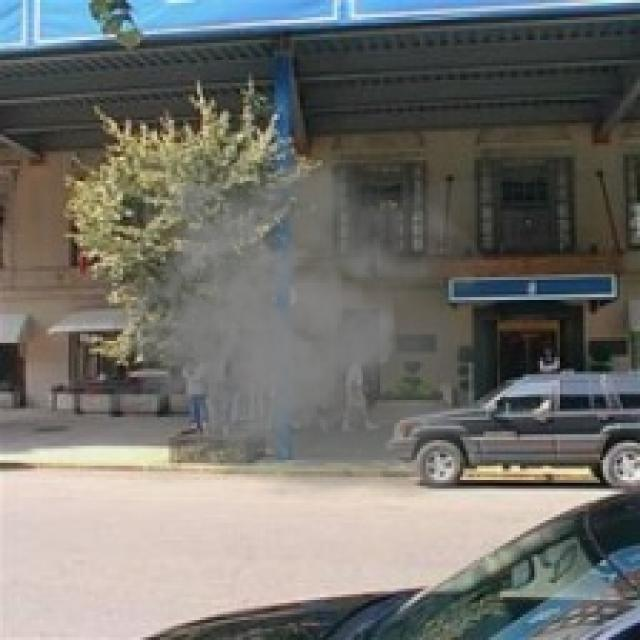smoke: (117, 146, 494, 500)
